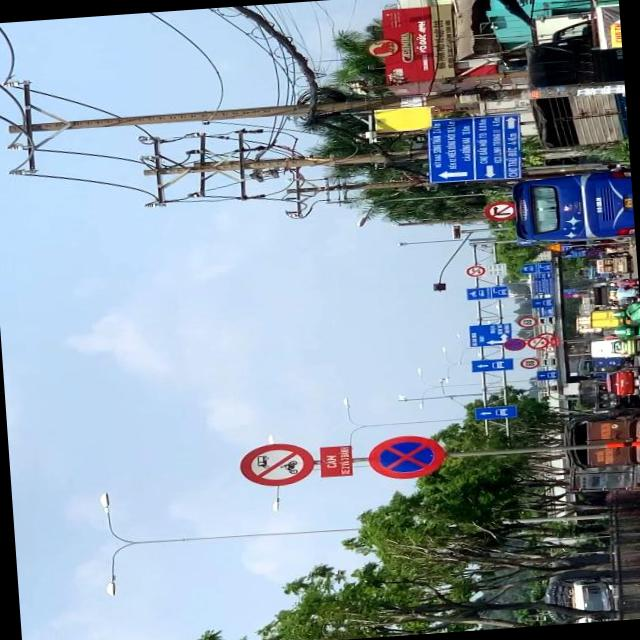P-104: (240, 438, 312, 488)
P-123b: (482, 197, 516, 220)
P-130: (367, 433, 448, 478)
